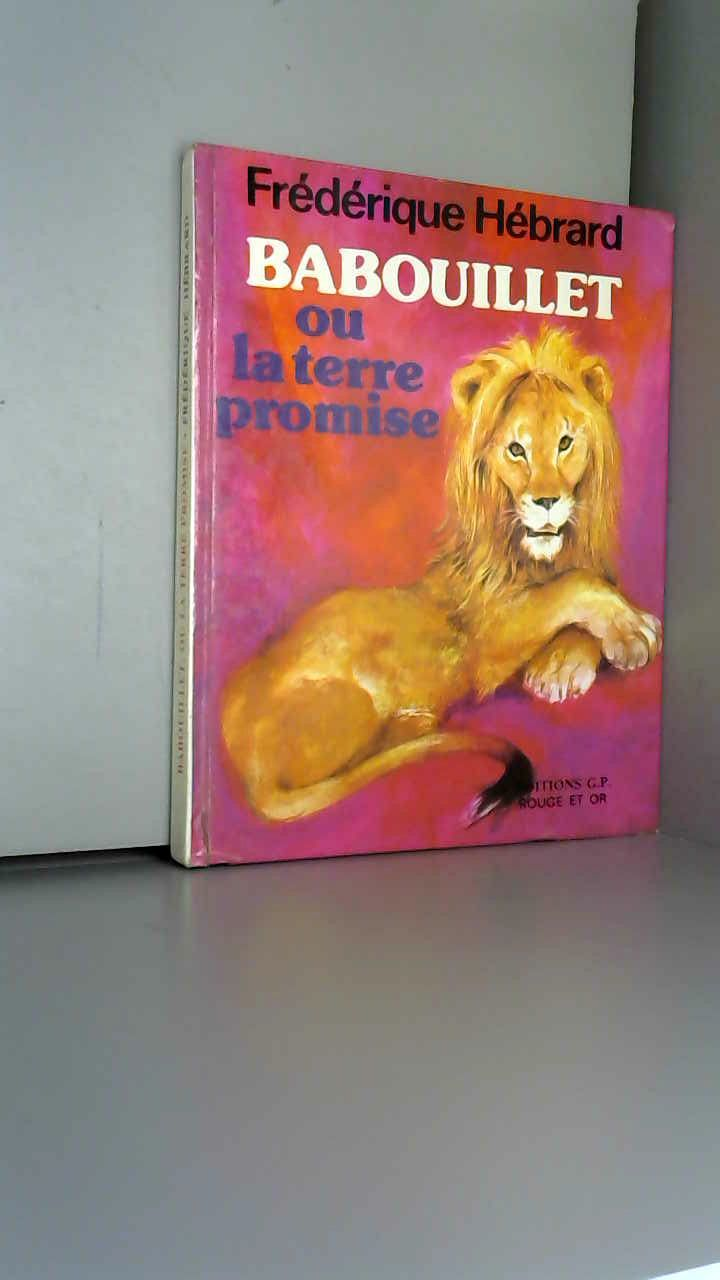book: (160, 120, 720, 895)
